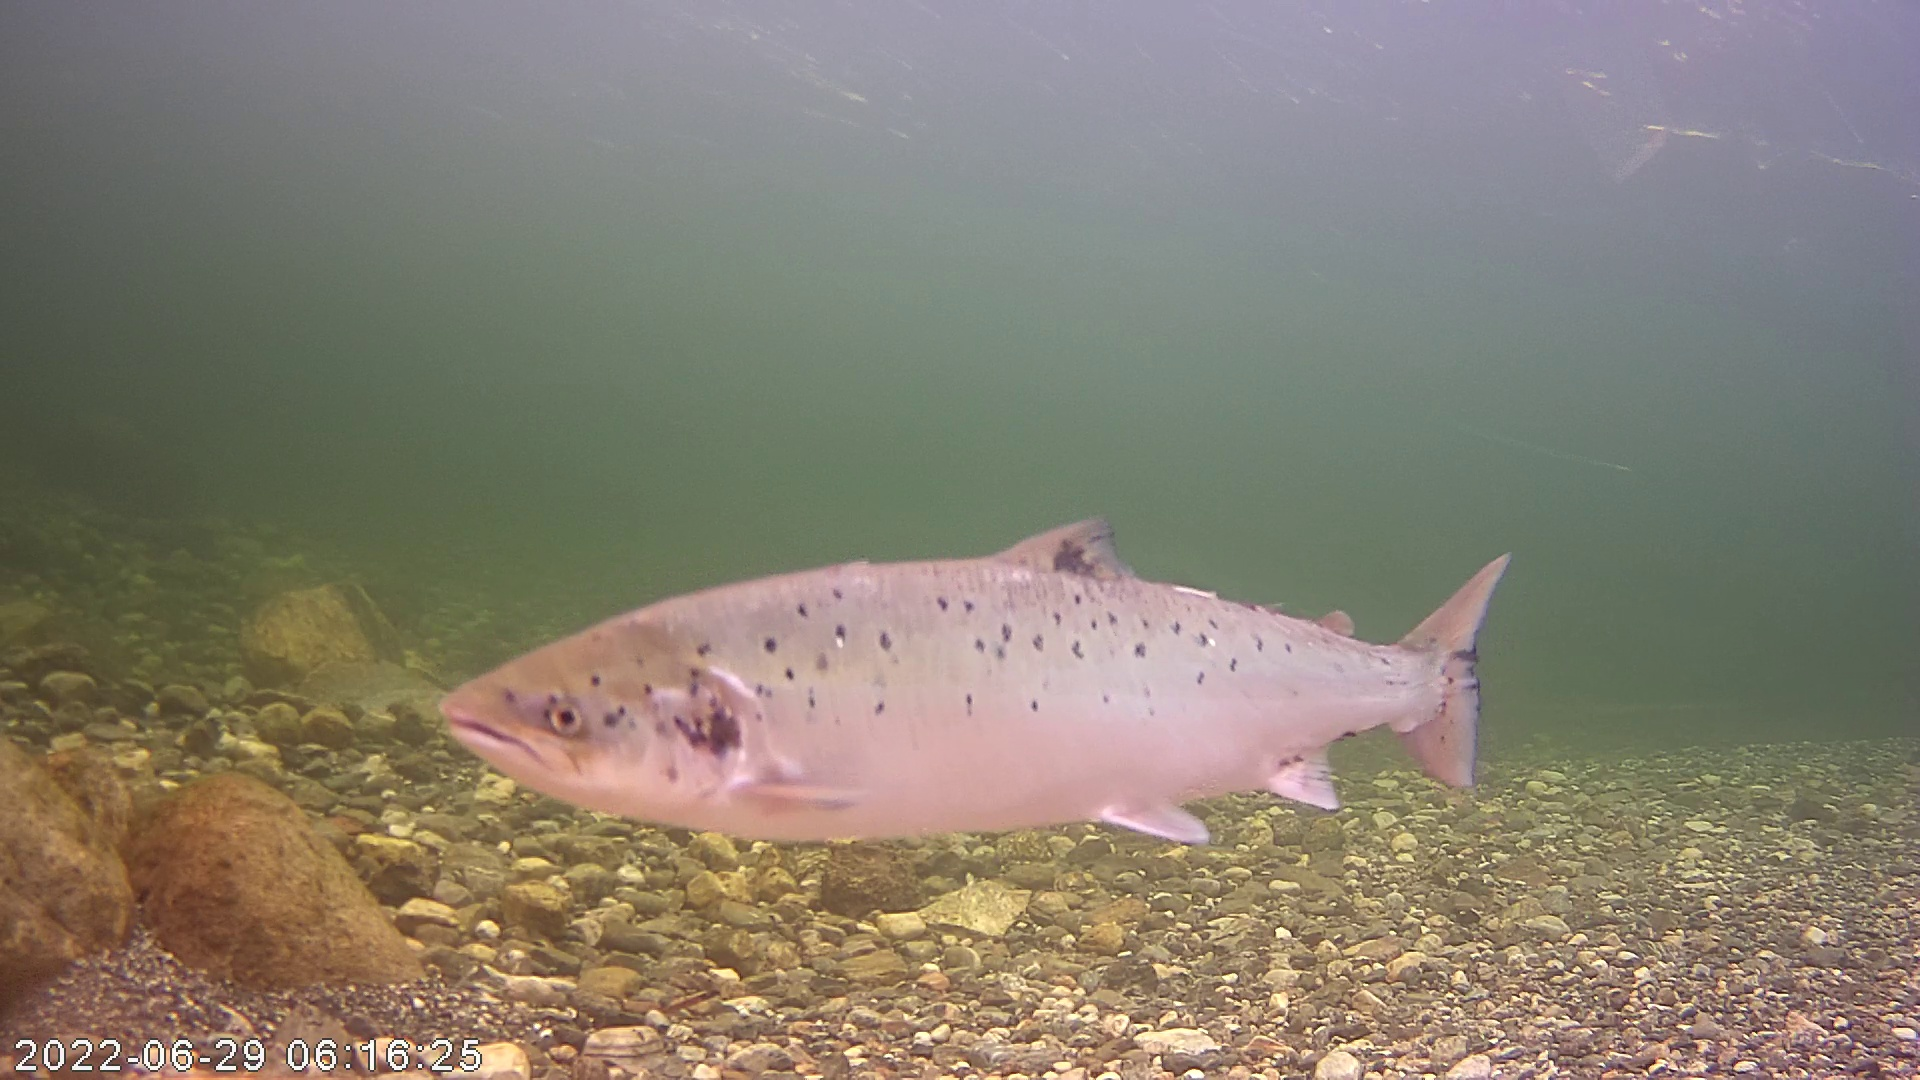salmon: (475, 407, 1511, 857)
